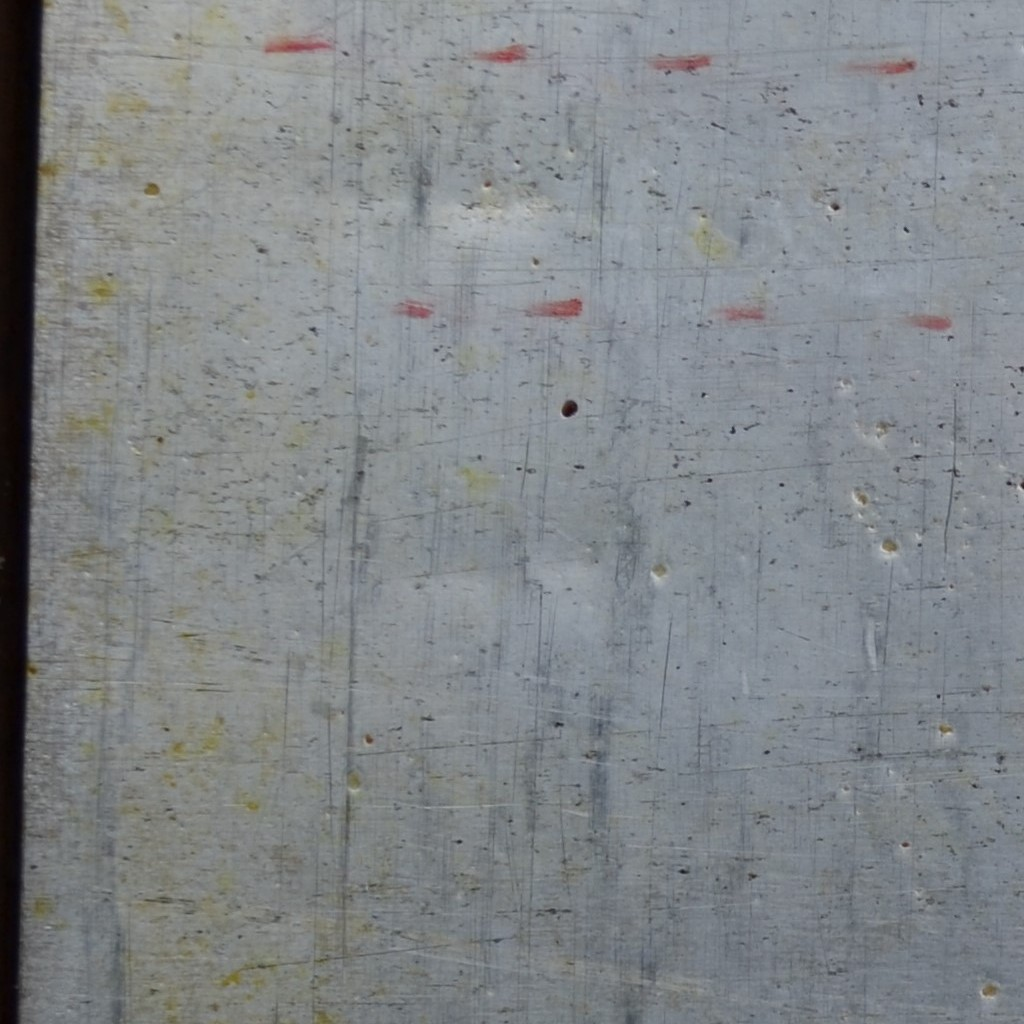varroa: (558, 397, 580, 419)
